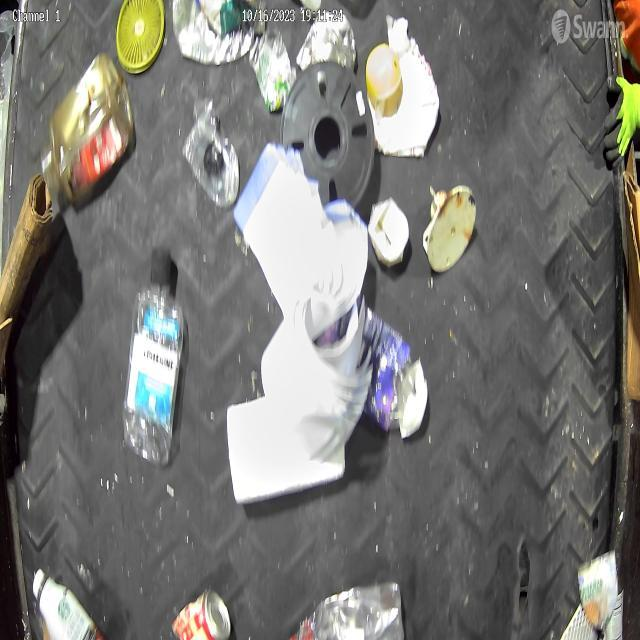can: (296, 8, 356, 88), (249, 26, 296, 114), (171, 584, 234, 640), (577, 552, 618, 628), (603, 582, 626, 640)
milk_jug: (260, 293, 374, 464)
non_white_jug: (39, 48, 134, 208)
plastic_bottle: (122, 240, 184, 466), (286, 578, 406, 640), (183, 94, 241, 212)
